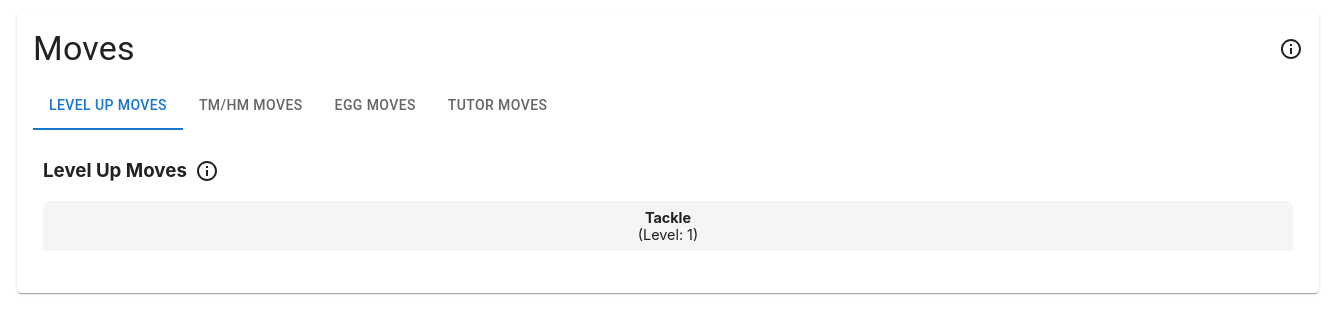
it: Moves Component › renders Egg Moves tab and shows moves when clicked
Note: Click the Egg Moves tab
Click the tab "Egg Moves": {"x": 375, "y": 106} [319,82,432,130]
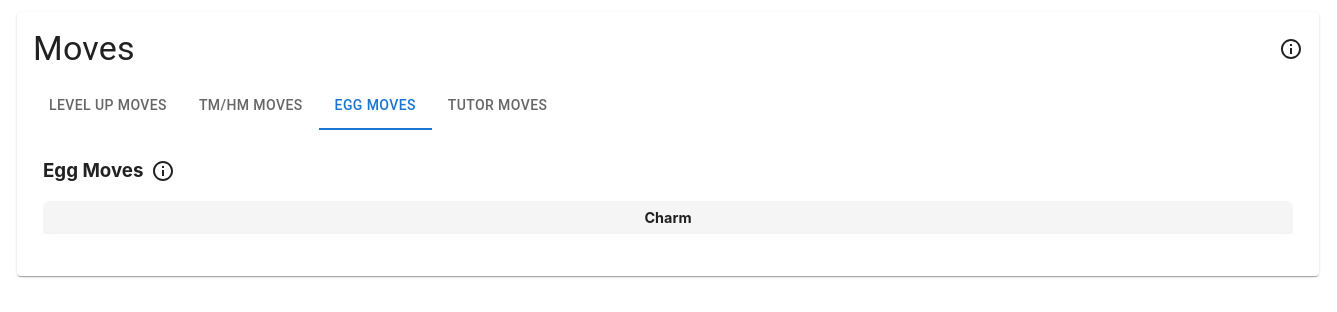
Now the text "charm" is shown, box [644,209,692,226]
